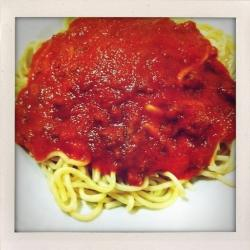bolonese_pasta: (20, 17, 235, 217)
